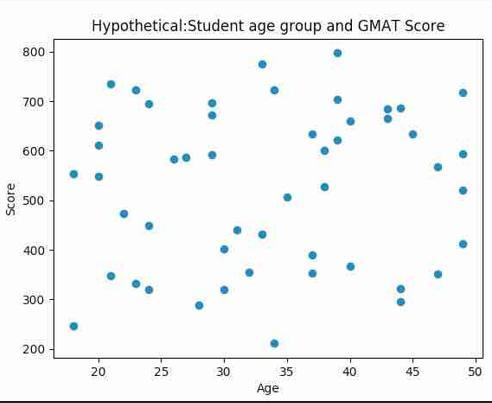axis: (48, 354, 486, 362), (48, 36, 57, 362)
point: (126, 81, 144, 98), (101, 75, 118, 92), (91, 117, 107, 133), (142, 97, 158, 111), (93, 139, 107, 153), (92, 171, 106, 184), (69, 167, 81, 182), (306, 249, 319, 262), (431, 161, 445, 173), (193, 300, 207, 312), (218, 283, 230, 296), (306, 267, 319, 279), (206, 97, 220, 108), (332, 94, 343, 108), (269, 84, 280, 97), (330, 135, 343, 146), (256, 59, 268, 70), (395, 103, 407, 114), (457, 87, 469, 98), (333, 48, 344, 59), (458, 149, 469, 160), (118, 209, 130, 219), (307, 129, 319, 139), (319, 146, 331, 156), (407, 130, 419, 140), (256, 230, 268, 240), (243, 268, 255, 278), (144, 221, 155, 231), (207, 150, 218, 160), (346, 116, 357, 126), (232, 226, 243, 236), (182, 151, 191, 163), (382, 115, 394, 124), (207, 110, 217, 120), (383, 104, 393, 114), (458, 186, 468, 196), (283, 193, 293, 203), (169, 155, 179, 164), (320, 183, 330, 192)
